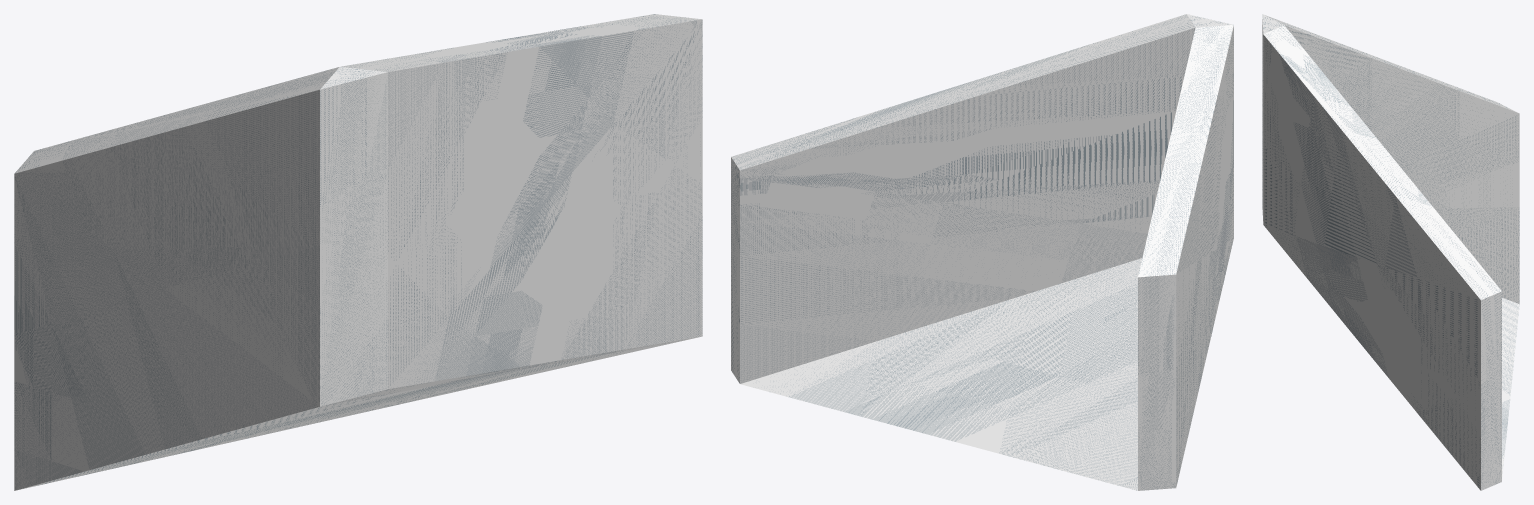
Rendered from Corner.fbx.
3 renders of one model, left to right at view 1: azimuth 30°, elevation 25°; view 2: azimuth 150°, elevation 25°; view 3: azimuth 270°, elevation 25°, orthographic. The views are drawn at different scales.
Parts seen in each view (by area): view 1: Group1; view 2: Group1; view 3: Group1.
Part boxes in pixels (x1=…): Group1: x1=14, y1=14, x2=702, y2=490; Group1: x1=731, y1=14, x2=1233, y2=490; Group1: x1=1262, y1=14, x2=1519, y2=490.
Bounding box in the file's own units: 8.91 × 6.53 × 4.9.
